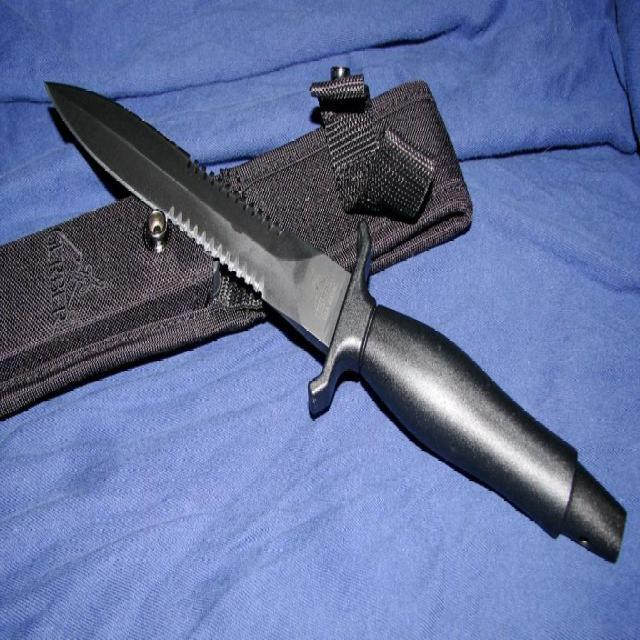Knife: (48, 83, 625, 561)
